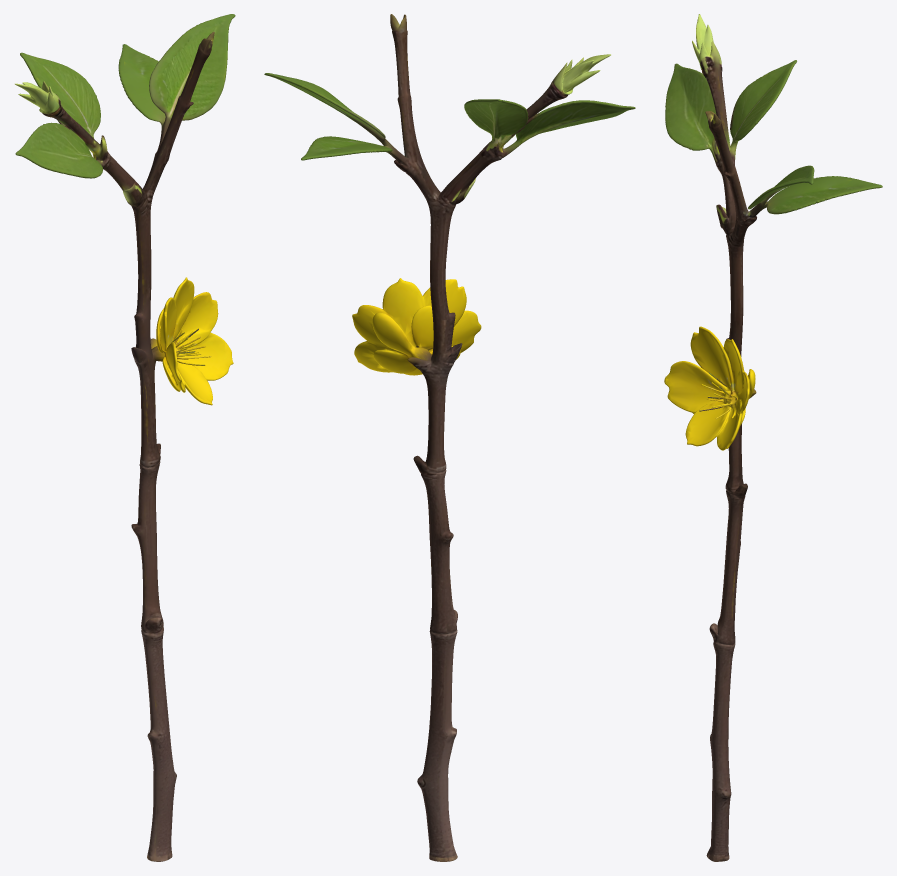
Rendered from lianqiao.glb.
The picture shows the model from 3 angles, left to right: view 1: azimuth 30°, elevation 25°; view 2: azimuth 150°, elevation 25°; view 3: azimuth 270°, elevation 25°; orthographic projection. The views are drawn at different scales.
Visible parts, largest first — view 1: node_0; view 2: node_0; view 3: node_0.
Boxes of the visible parts, x1,y1,x2,y2 form: node_0: [15, 14, 235, 861]; node_0: [264, 14, 635, 861]; node_0: [664, 14, 882, 861].
Bounding box in the file's own units: 0.4171 × 1.12 × 0.2868.
1 material, 1 textured.
